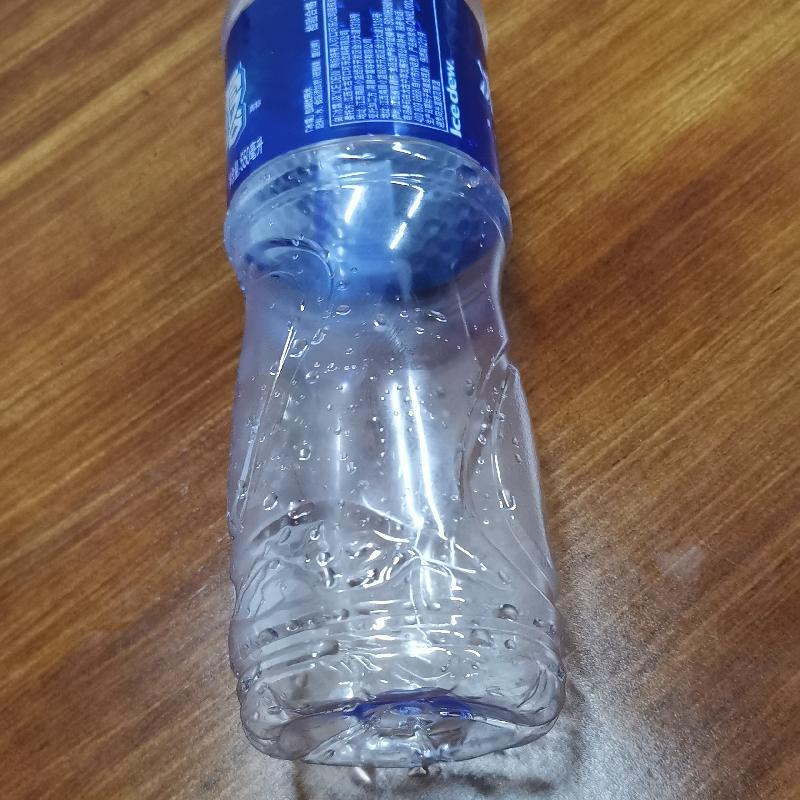bottles: (206, 8, 570, 778)
